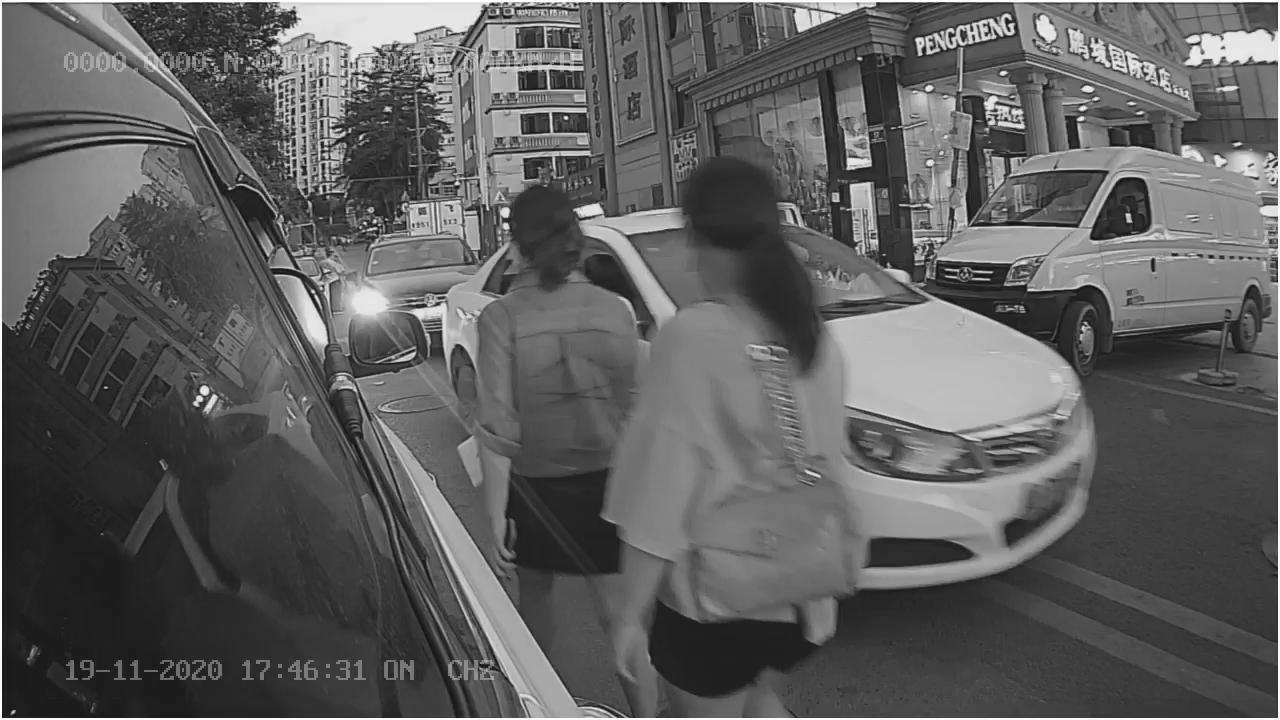person: (463, 188, 642, 591)
